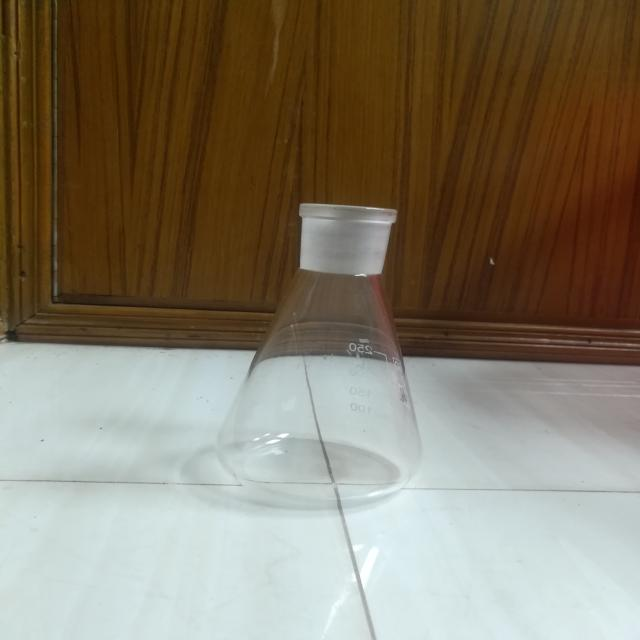Conical_Flask: (170, 153, 477, 544)
